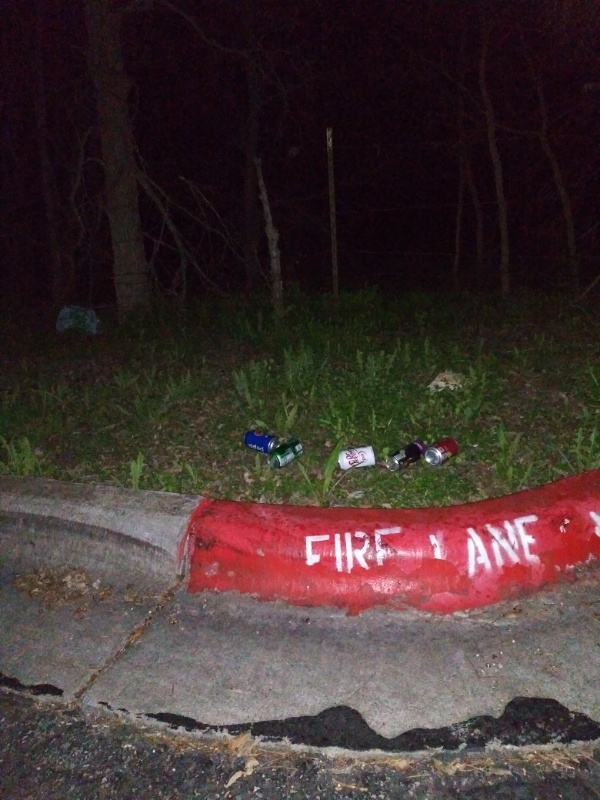can: (384, 436, 427, 472), (333, 443, 379, 471), (239, 426, 281, 455), (269, 438, 308, 469), (424, 436, 460, 467)
